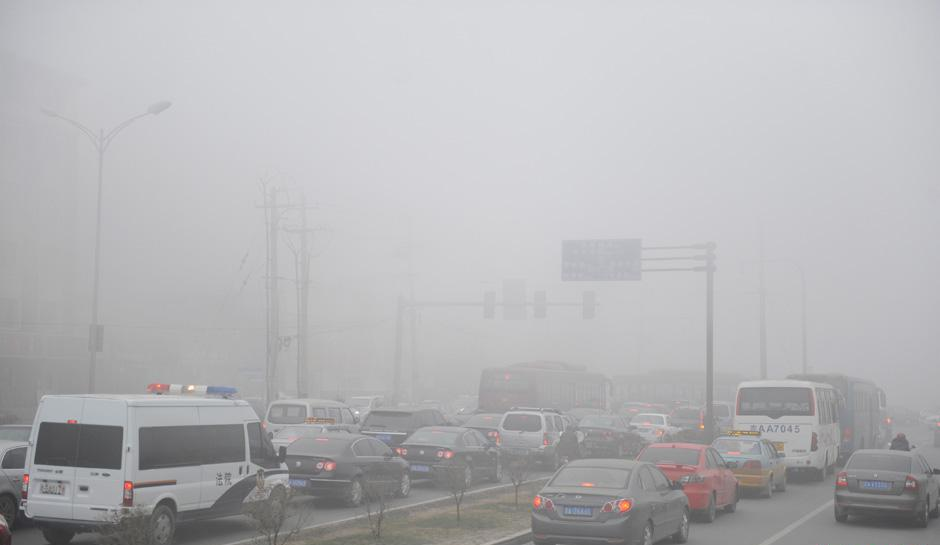bus: (733, 381, 846, 484), (783, 370, 887, 462), (474, 358, 616, 424)
car: (16, 377, 290, 541), (528, 456, 691, 543), (272, 431, 412, 508), (627, 440, 742, 525), (1, 436, 96, 526), (833, 446, 940, 524), (394, 425, 501, 489), (706, 427, 786, 499), (358, 405, 454, 465), (264, 397, 360, 445), (494, 406, 571, 465), (265, 415, 352, 467), (570, 414, 640, 452), (626, 412, 681, 444)
